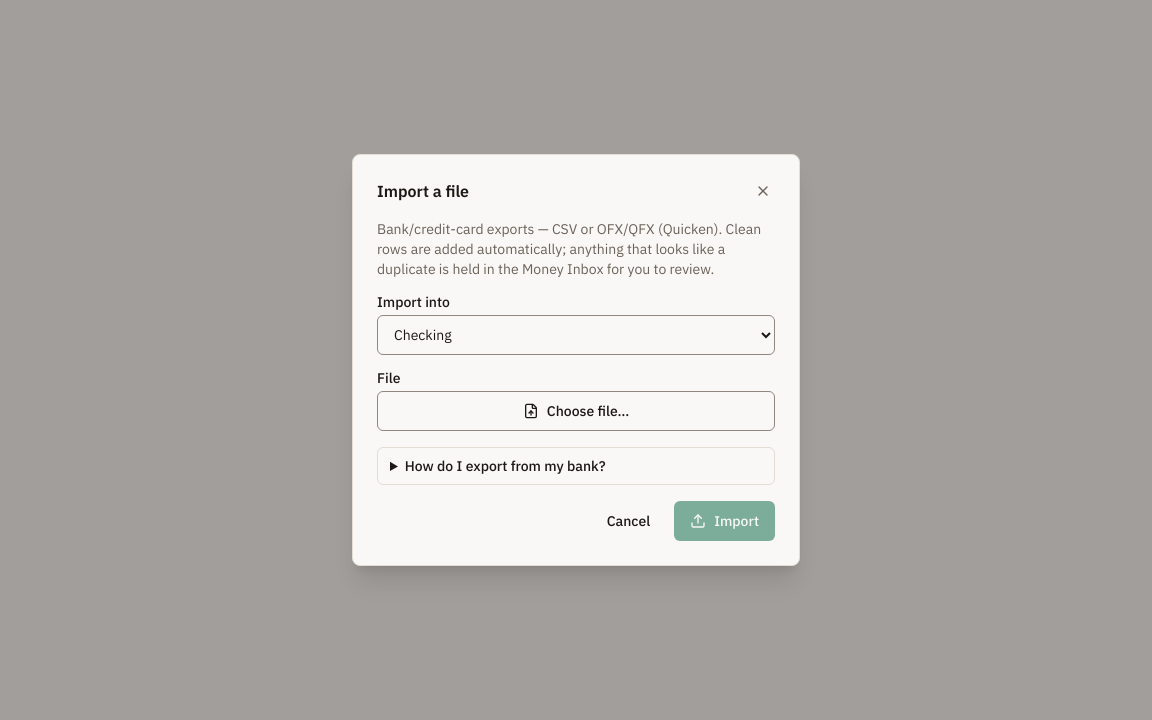
Test: explains how to export from common banks, on demand (rfsc)
Click the heading "How do I export from my bank?" at {"x": 505, "y": 466}, box [405,457,606,475]
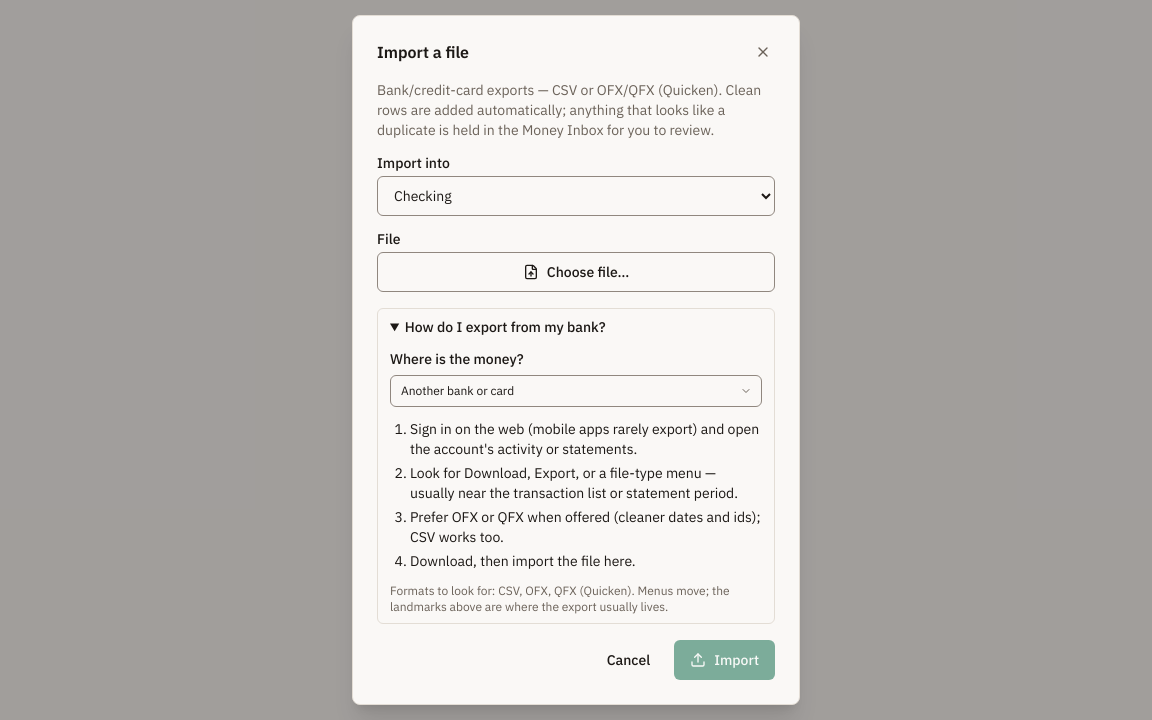
expect the dropdown labelled "Where is the money?" is shown: met
Select "American Express" in the dropdown labelled "Where is the money?" at {"x": 576, "y": 391}, box [390,375,762,407]
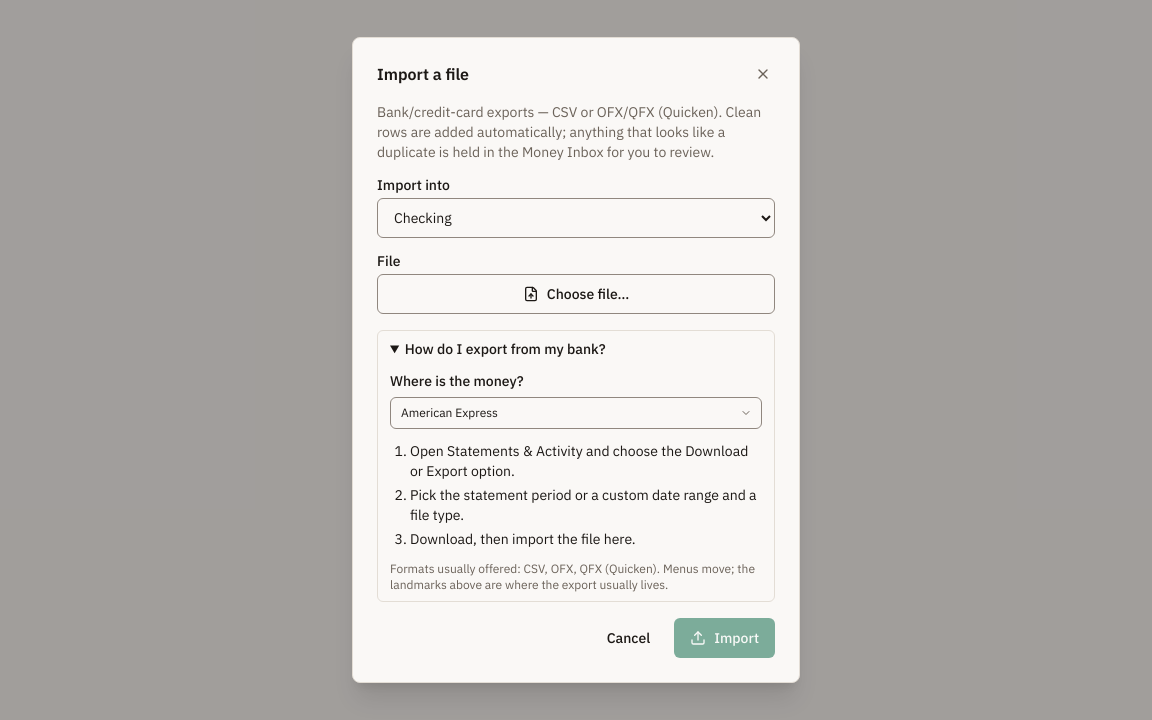
expect the list item "Statements & Activity" is shown: met, box [410,442,748,480]
